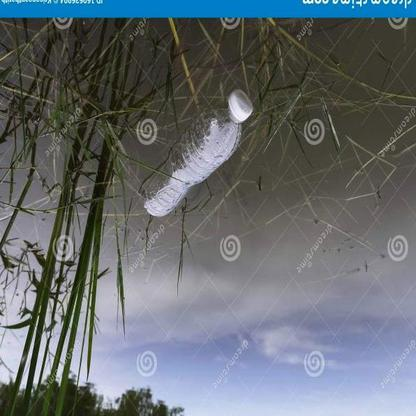plastic bottle: (140, 89, 254, 216)
